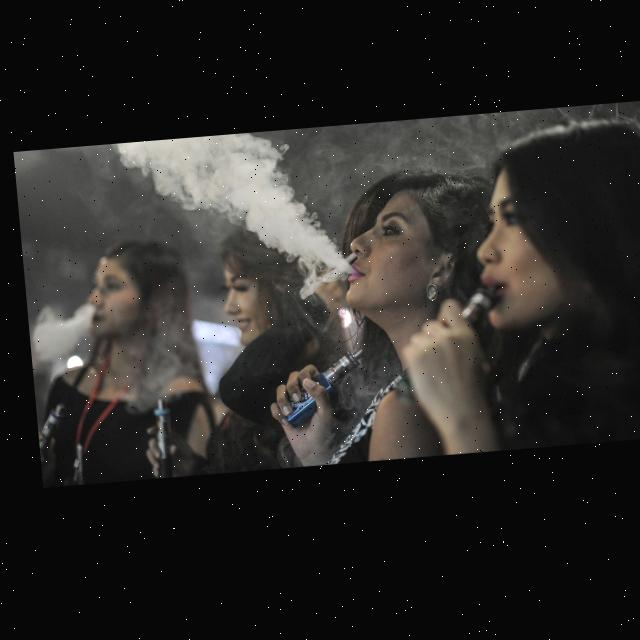vape: (381, 289, 500, 416), (273, 353, 363, 434), (144, 398, 166, 480), (28, 403, 60, 452)
